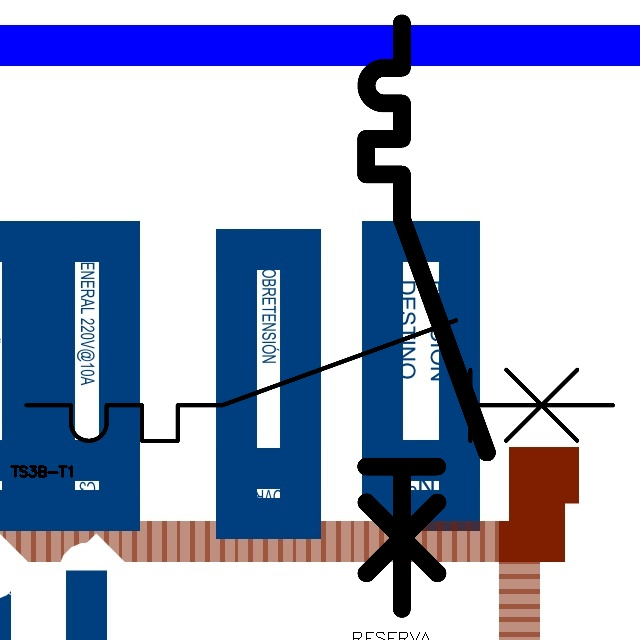interruptor_termomagnetico: (11, 305, 628, 456), (351, 8, 502, 624)
